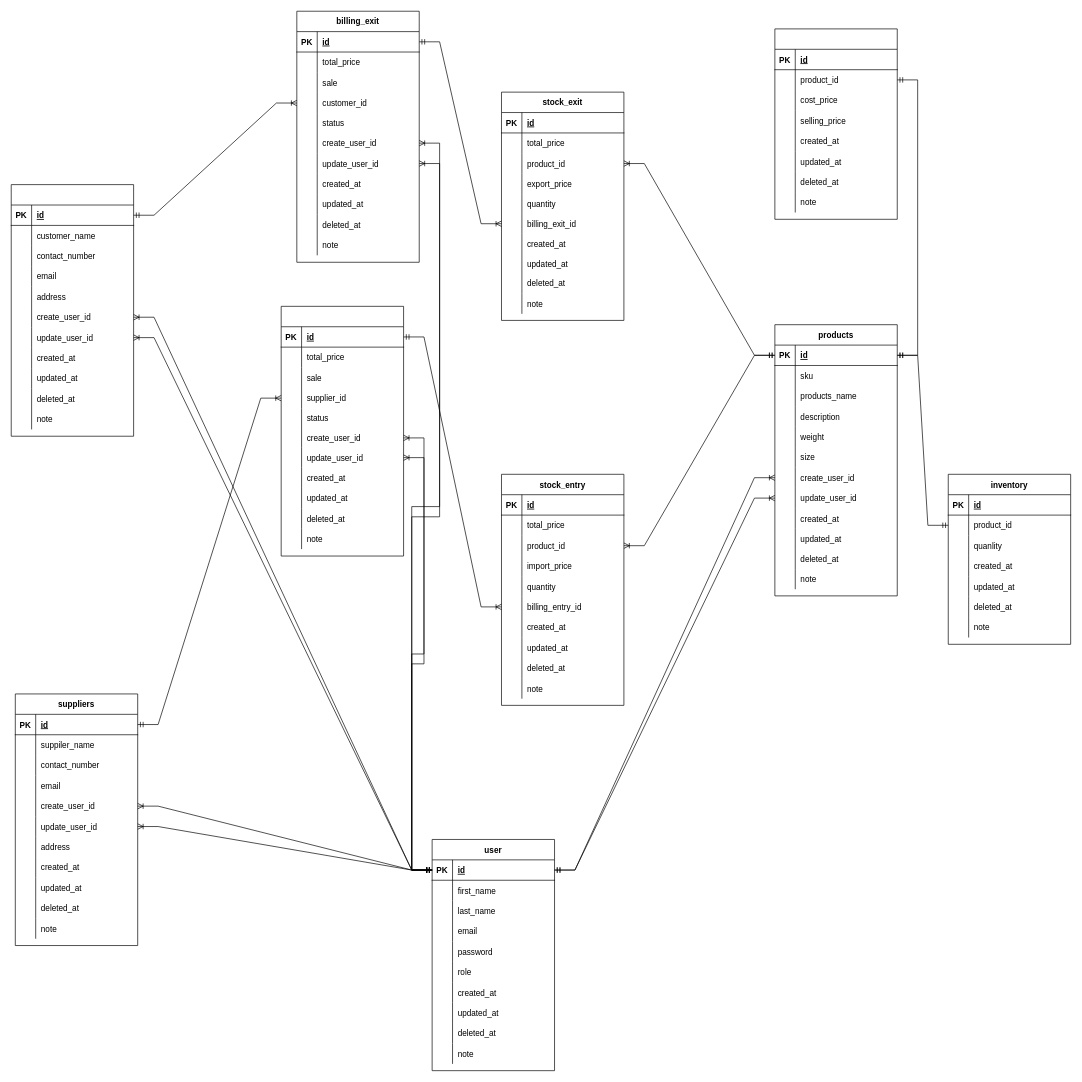
The diagram is 1082 pixels wide and 1082 high, and some of its shapes have lost their labels. The box of each missing label's shape, as (x1, y1, x2, y2) in pixels:
billing_entry: (280, 306, 404, 556)
customers: (11, 184, 134, 436)
product_pricing: (774, 28, 897, 219)
